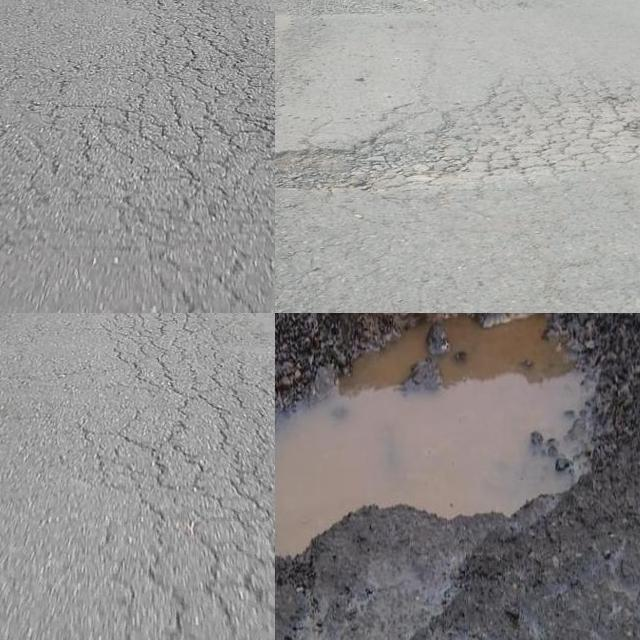Lubang: (275, 313, 640, 562)
Retak Buaya: (0, 0, 275, 267), (113, 313, 275, 640), (287, 68, 640, 199)
